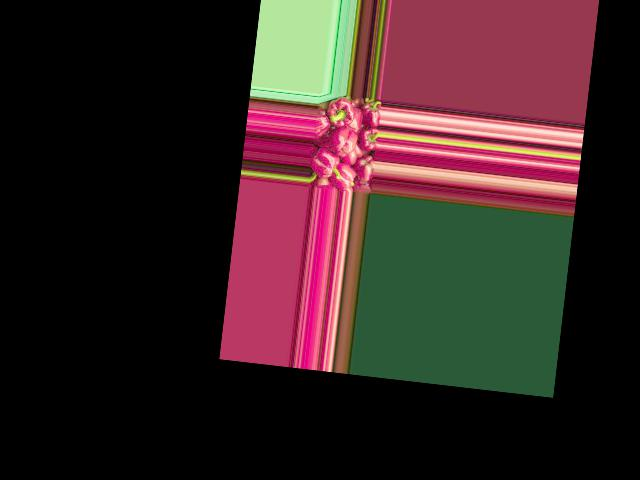bell_pepper: (360, 99, 381, 126)
